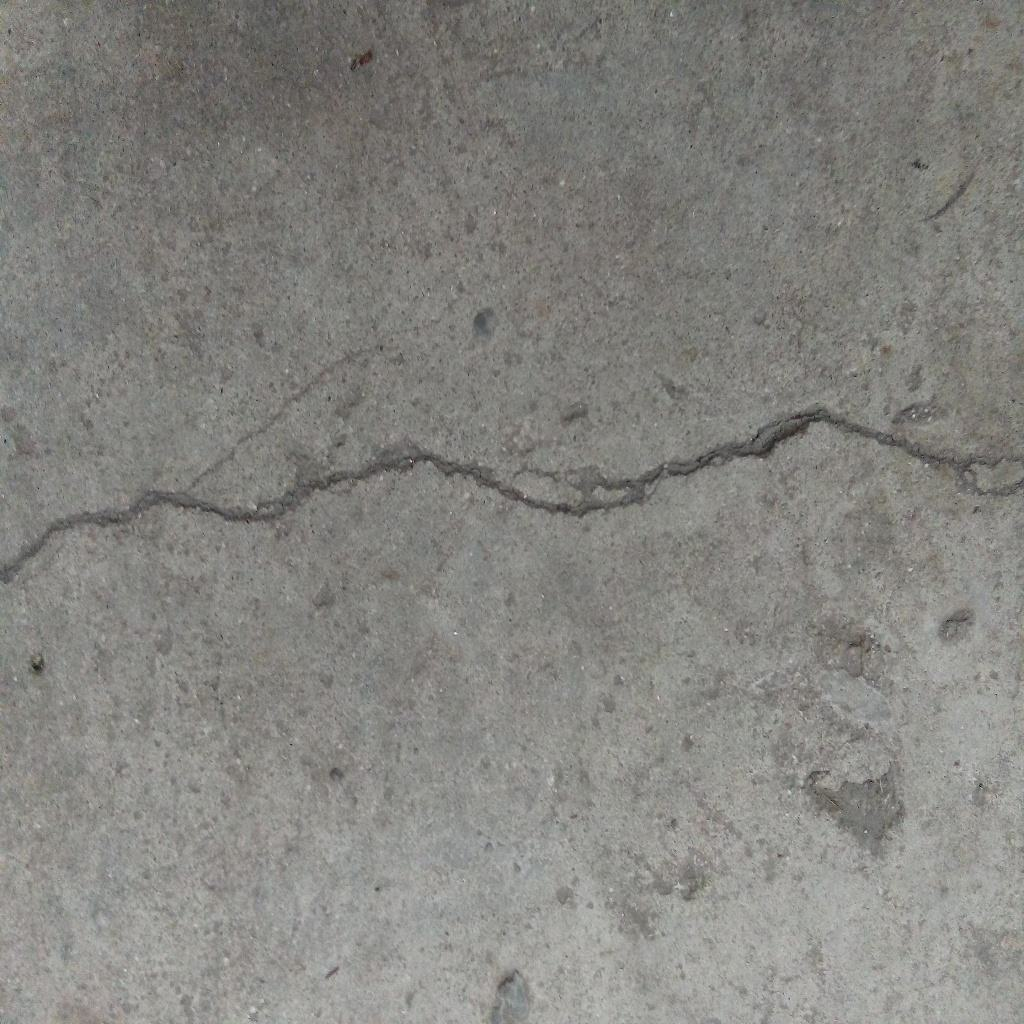Crack: (1, 403, 1024, 588)
